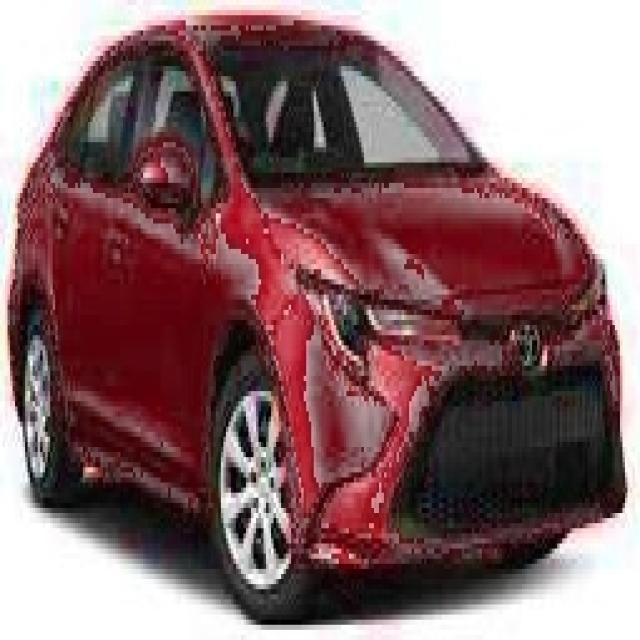maroon: (14, 26, 631, 590)
